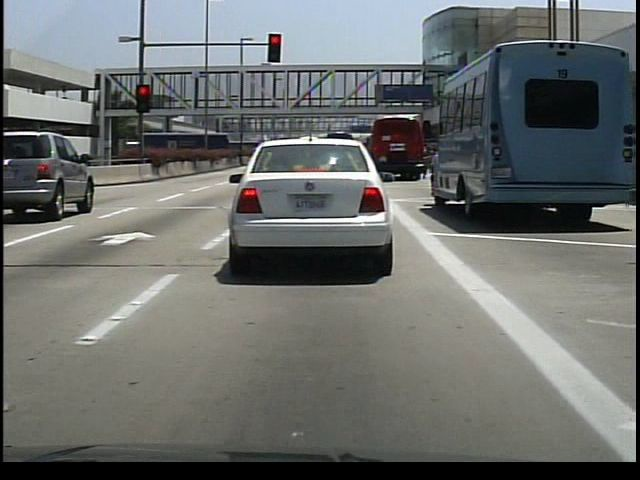person: (424, 139, 436, 179)
